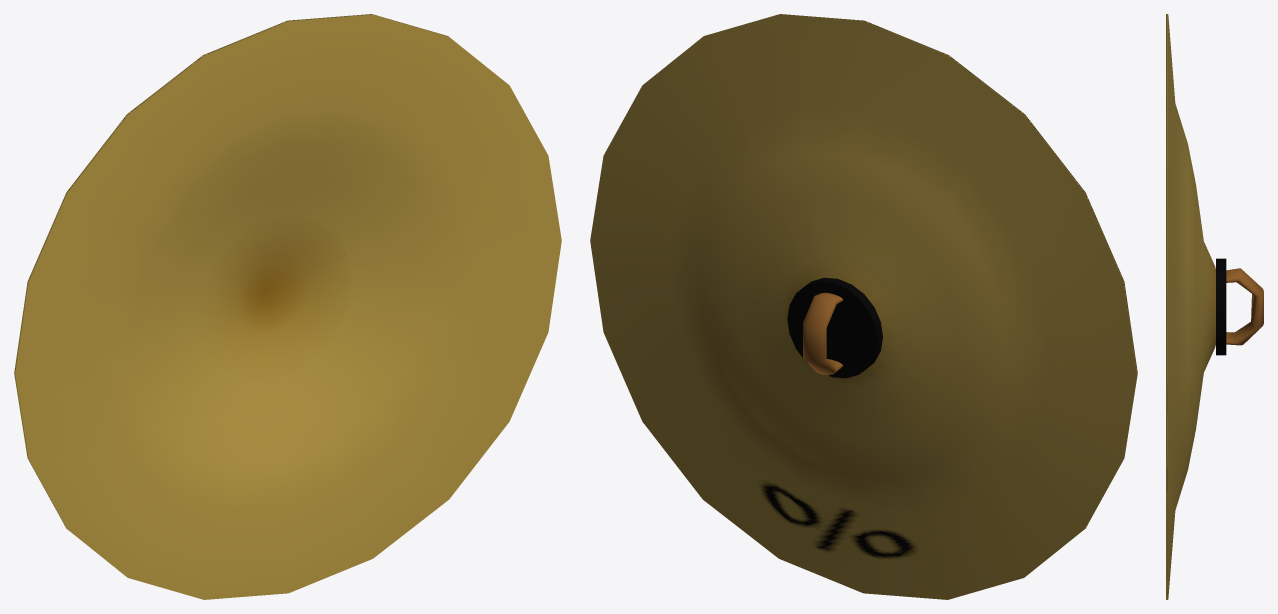
The model's file is symbal01_L.fbx.
3 views of the same model, side by side, from view 1: azimuth 30°, elevation 25°; view 2: azimuth 150°, elevation 25°; view 3: azimuth 270°, elevation 25° (orthographic). The views are drawn at different scales.
Parts seen in each view (by area): view 1: symbal_L; view 2: symbal_L, handleclip_L, handle_L; view 3: symbal_L, handle_L, handleclip_L.
Part boxes in pixels (x1,y1,x2,y2): symbal_L: [14, 14, 561, 599]; symbal_L: [590, 14, 1137, 599]; handleclip_L: [787, 277, 882, 378]; handle_L: [803, 292, 843, 375]; symbal_L: [1166, 14, 1215, 599]; handle_L: [1226, 268, 1263, 345]; handleclip_L: [1216, 258, 1226, 355].
Size of the model in its own units: 92.93 by 92.93 by 15.4.
